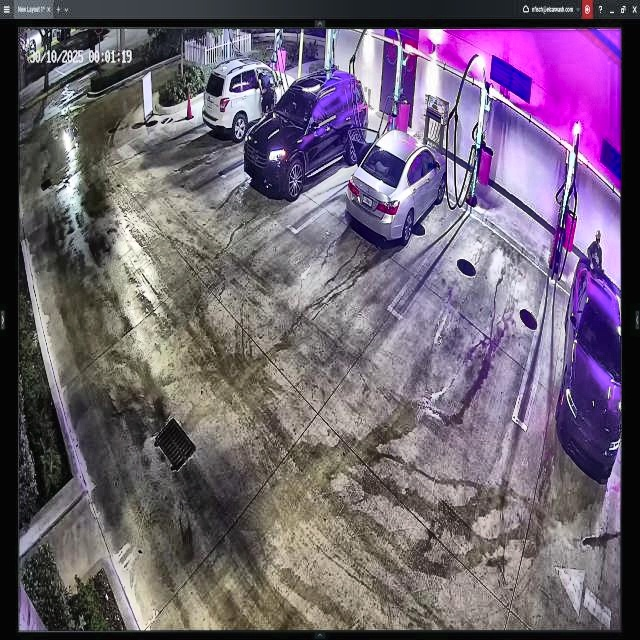Car: (245, 66, 366, 199), (347, 131, 446, 245)
